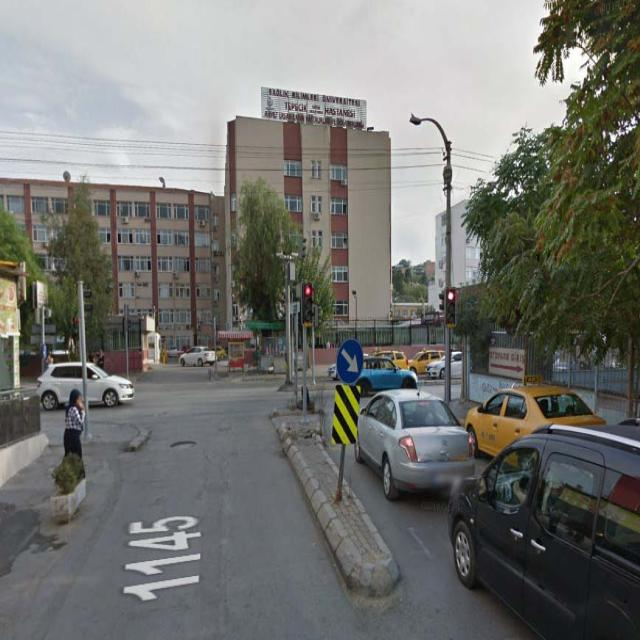kirmizi: (302, 284, 314, 323), (446, 289, 455, 328)
